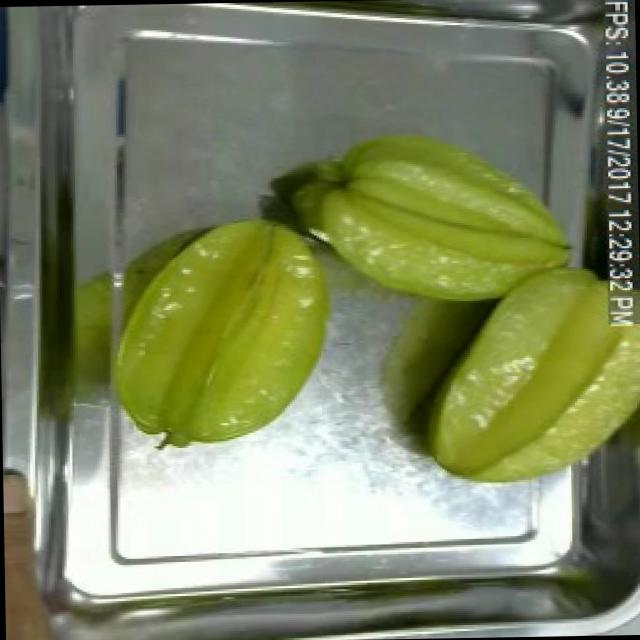fruit: (98, 200, 342, 454), (290, 118, 582, 318), (413, 244, 640, 492)
